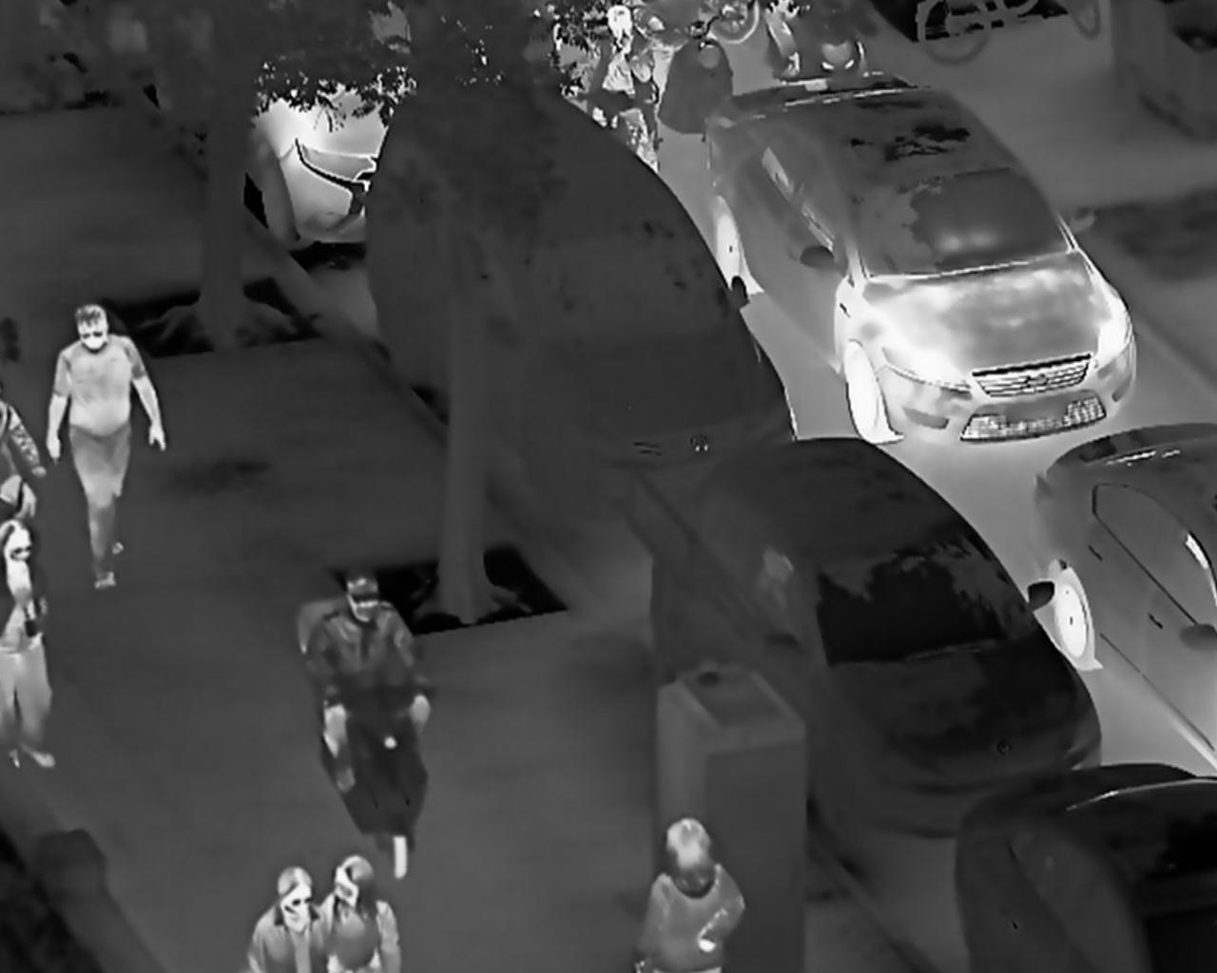person: (43, 302, 168, 595), (302, 568, 437, 798), (633, 814, 747, 973), (584, 2, 663, 178), (292, 849, 399, 973), (243, 861, 334, 973)
